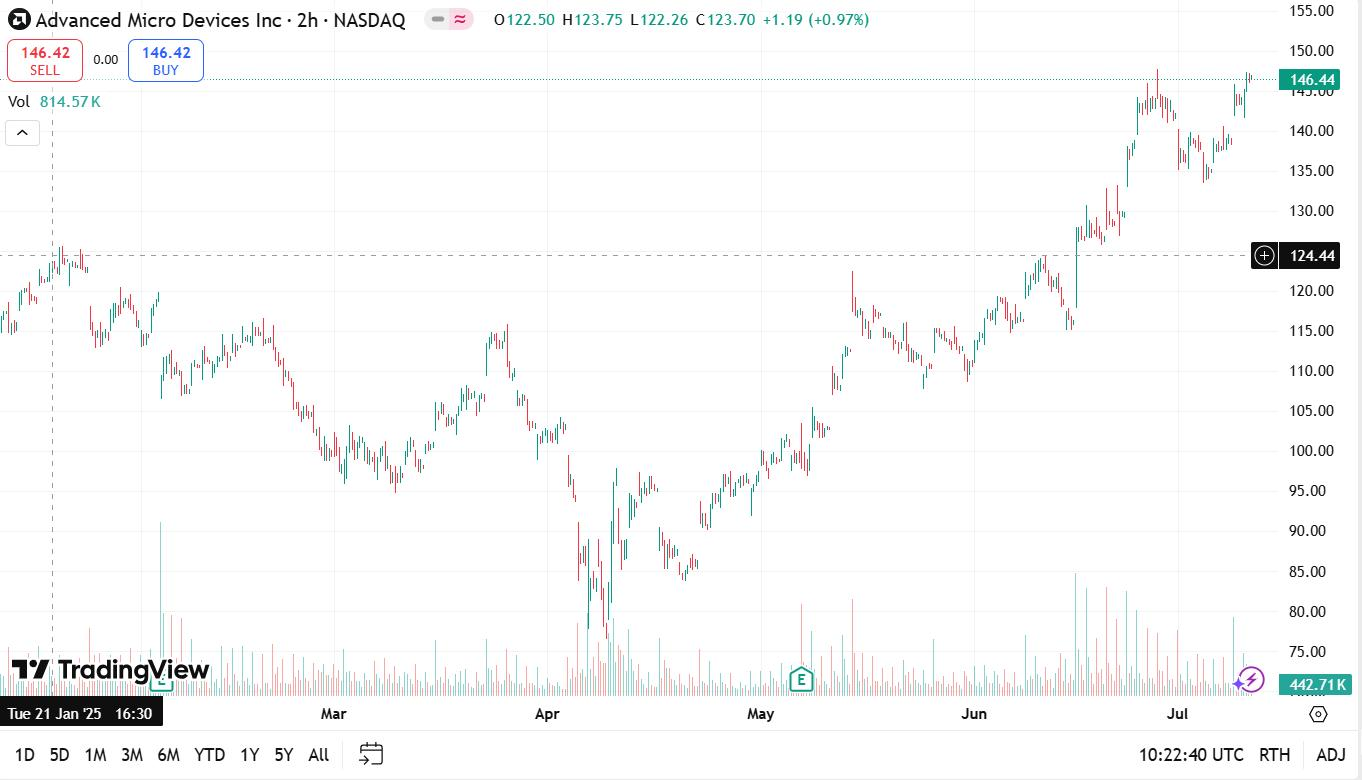Downtrend: (256, 310, 346, 490)
Uptrend: (674, 259, 864, 592), (415, 322, 511, 480), (178, 314, 281, 413)
